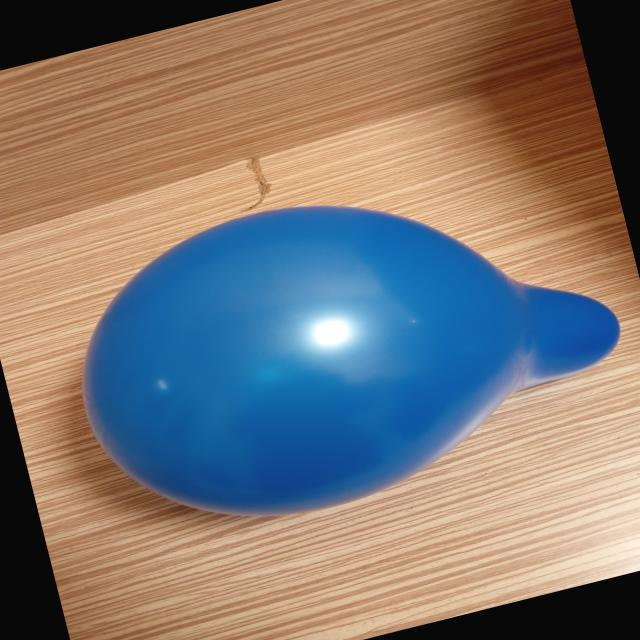balloon: (83, 206, 620, 515)
